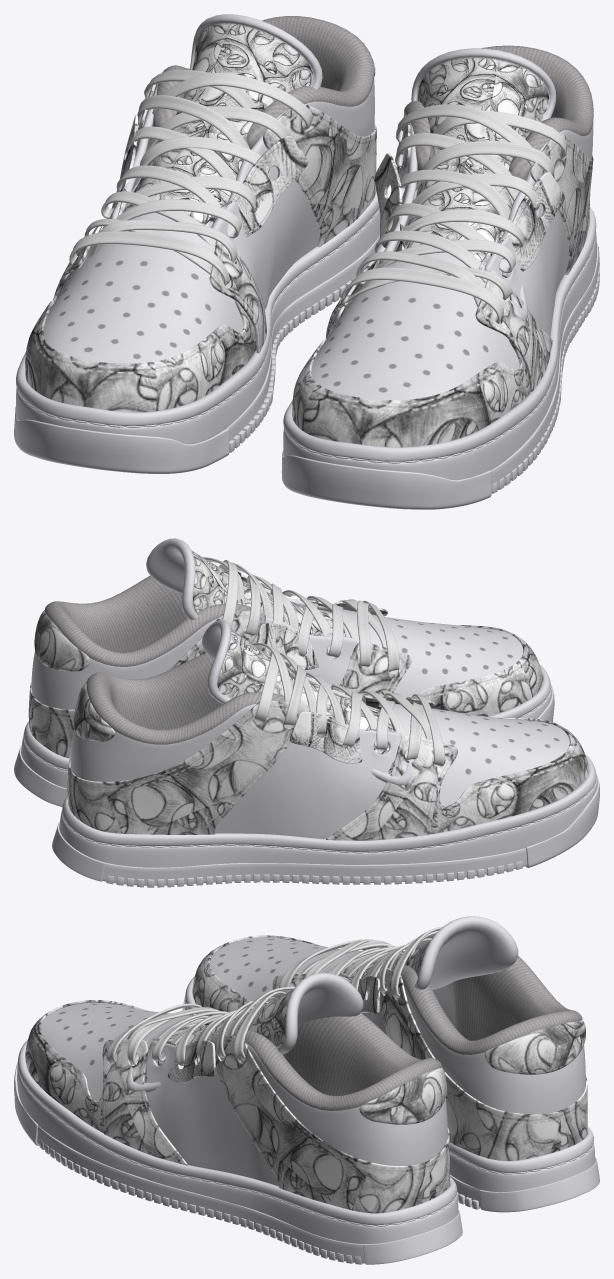
Rendered from custom.glb.
The picture shows the model from 3 angles, top to bottom: view 1: azimuth 30°, elevation 25°; view 2: azimuth 150°, elevation 25°; view 3: azimuth 270°, elevation 25°; orthographic projection. The views are drawn at different scales.
Visible parts, largest first — view 1: Insole Right, Lace / Dubrae Right, Outsole Back Right; view 2: Insole Right, Outsole Back Right, Lace / Dubrae Right; view 3: Insole Right, Outsole Back Right, Lace / Dubrae Right.
Boxes of the visible parts, bbox=[...] form: Insole Right: bbox=[25, 16, 593, 447]; Lace / Dubrae Right: bbox=[69, 14, 566, 323]; Outsole Back Right: bbox=[14, 191, 599, 509]; Insole Right: bbox=[28, 566, 588, 840]; Outsole Back Right: bbox=[14, 664, 599, 887]; Lace / Dubrae Right: bbox=[146, 538, 444, 785]; Insole Right: bbox=[25, 935, 587, 1213]; Outsole Back Right: bbox=[14, 976, 599, 1264]; Lace / Dubrae Right: bbox=[106, 916, 518, 1092].
Bounding box in the file's own units: 1.17 × 0.5086 × 1.15.
3 materials, 2 textured.
